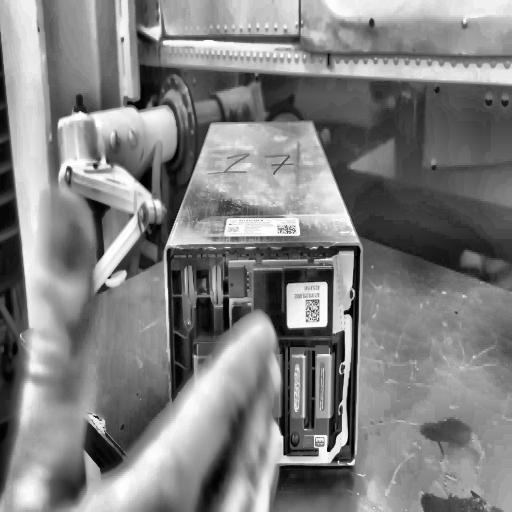battery_module: (165, 119, 361, 466)
